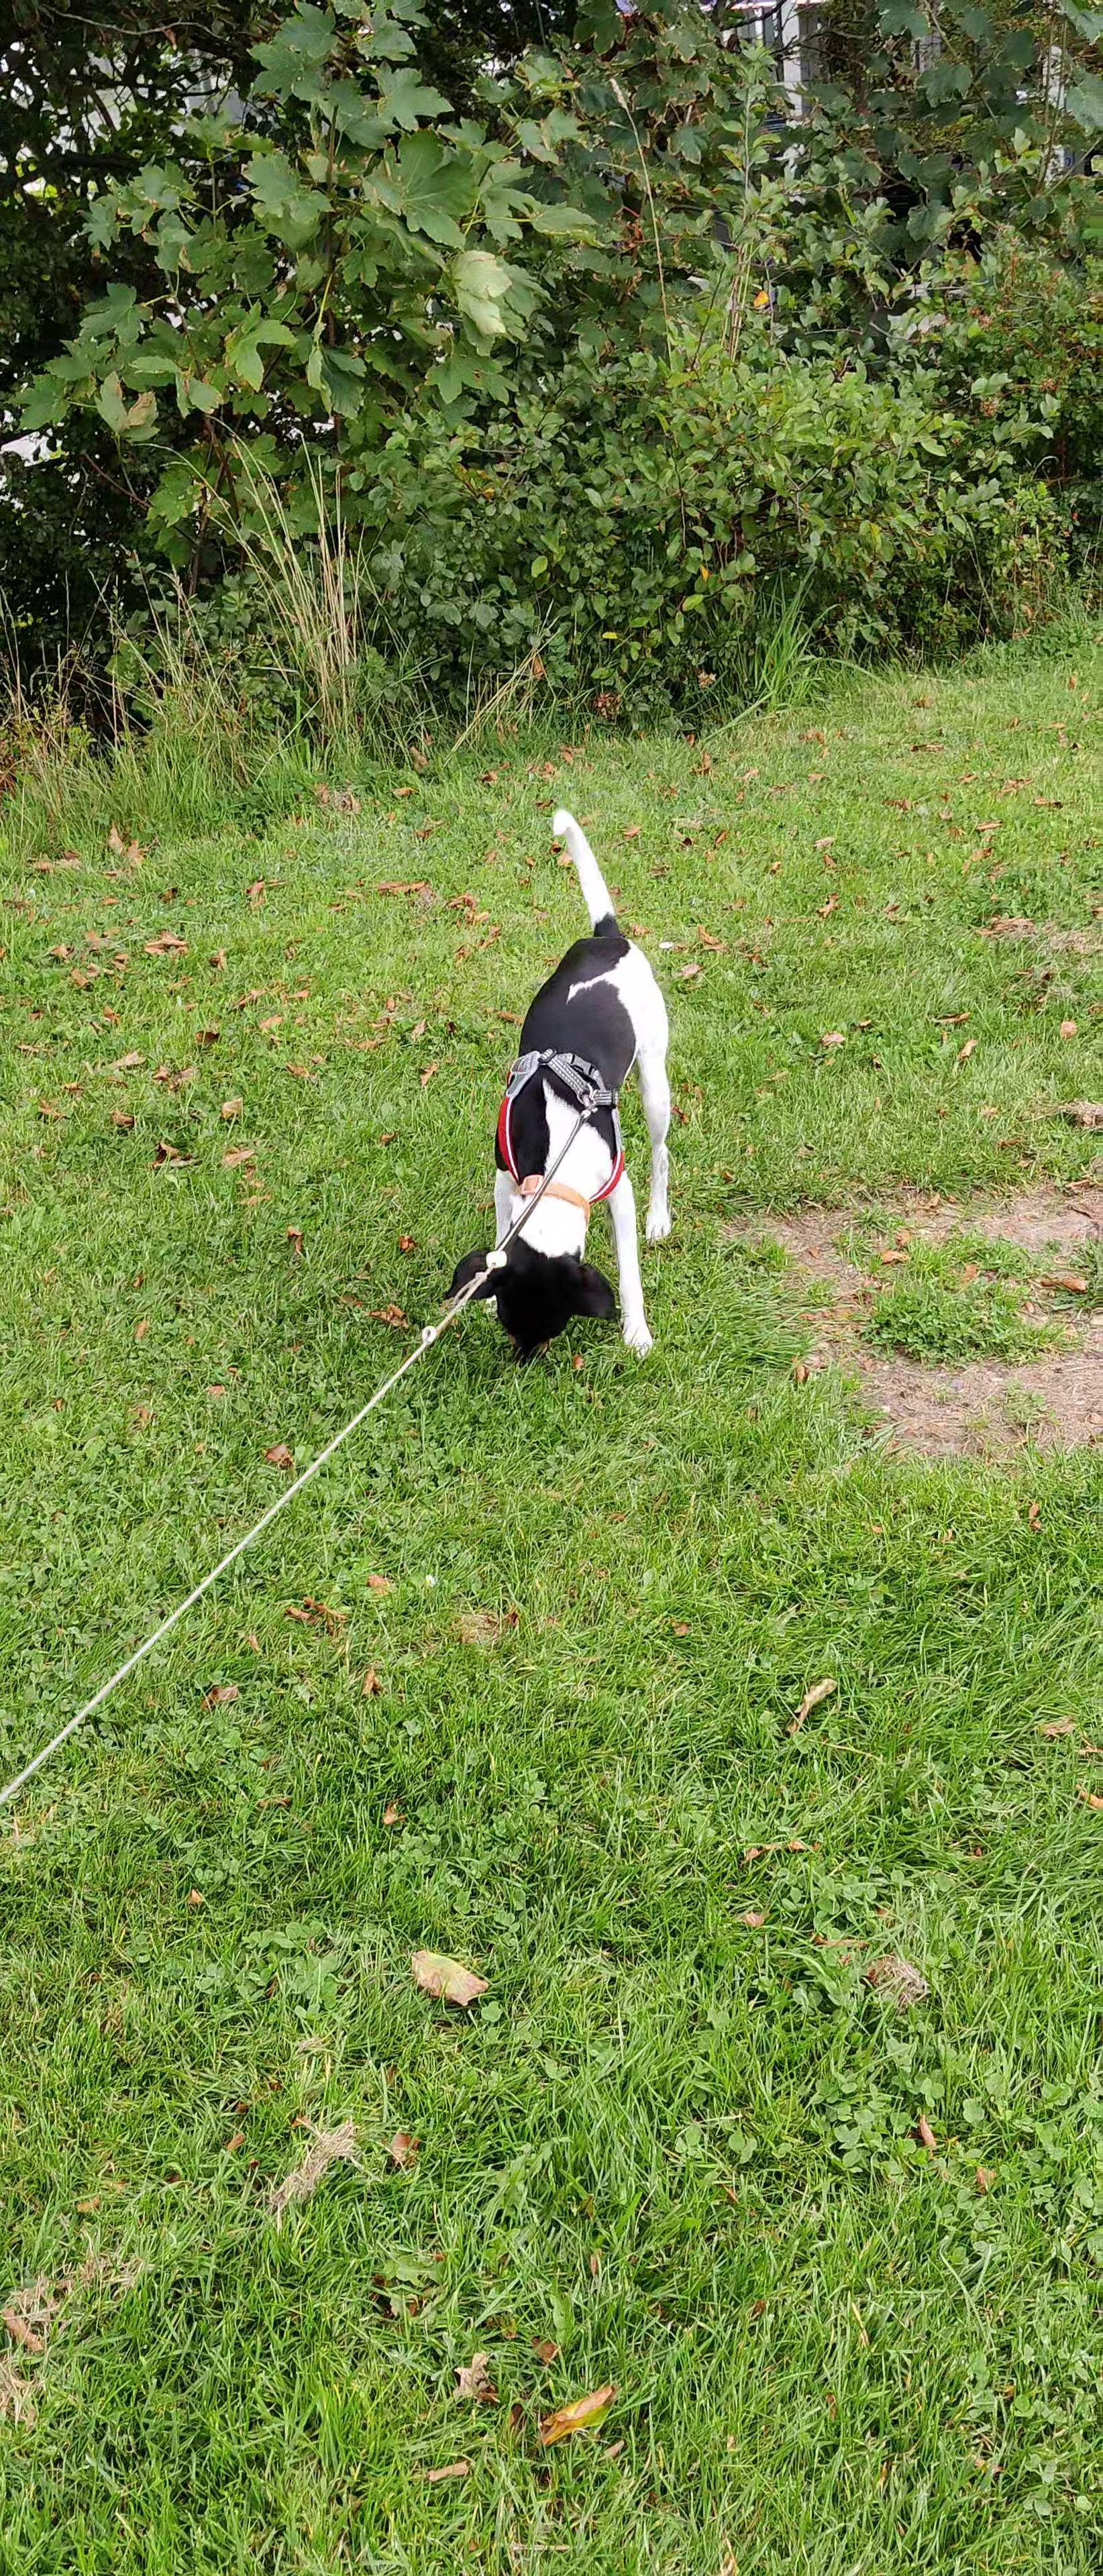Dog: (432, 797, 682, 1372)
